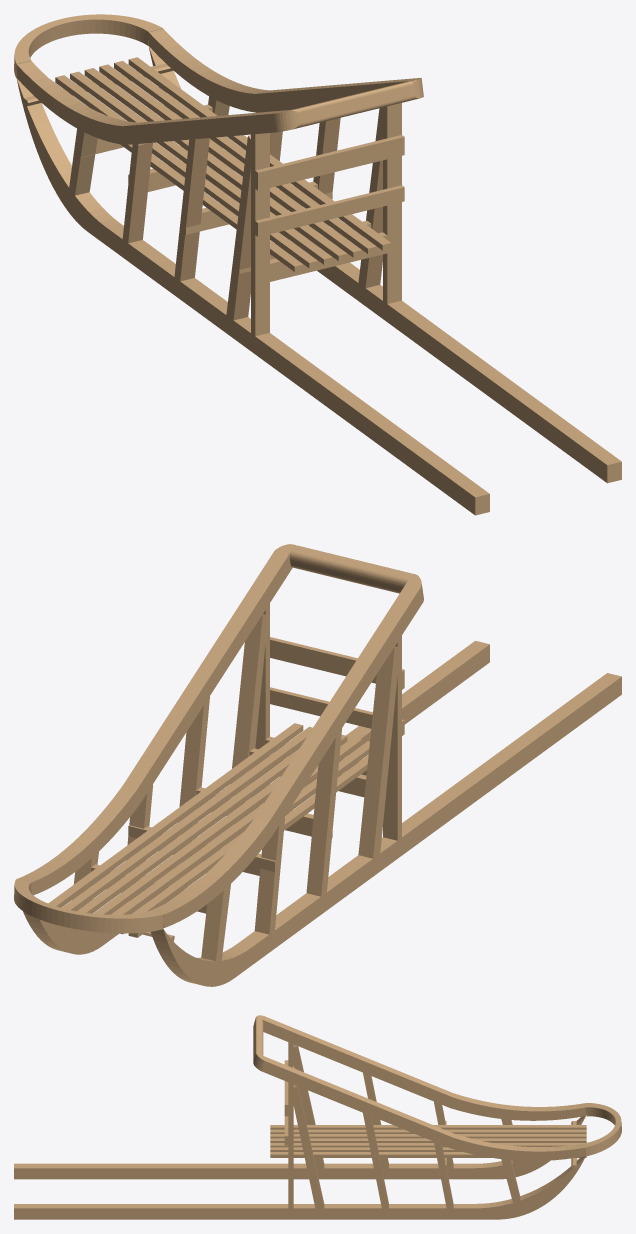
File: sled.glb
3 renders of one model, top to bottom at view 1: azimuth 30°, elevation 25°; view 2: azimuth 150°, elevation 25°; view 3: azimuth 270°, elevation 25°, orthographic. The views are drawn at different scales.
Parts seen in each view (by area): view 1: sled; view 2: sled; view 3: sled.
Boxes of the visible parts, <box> form: sled: <box>14,14,621,515</box>; sled: <box>14,544,621,986</box>; sled: <box>14,1015,621,1219</box>.
Size of the model in its own units: 0.5818 by 0.9842 by 3.35.
